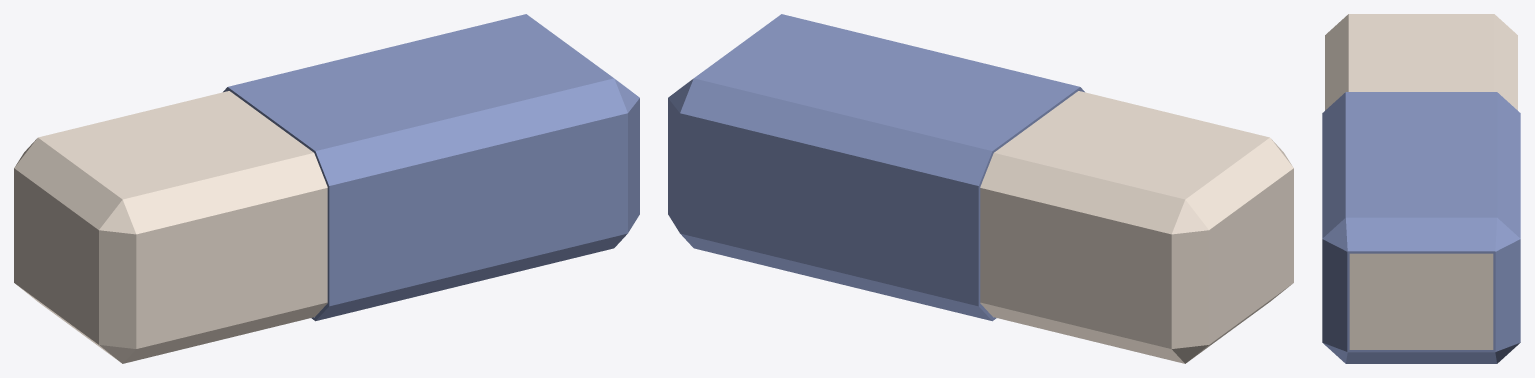
File: eraser.glb
3 renders of one model, left to right at view 1: azimuth 30°, elevation 25°; view 2: azimuth 150°, elevation 25°; view 3: azimuth 270°, elevation 25°, orthographic. The views are drawn at different scales.
Parts seen in each view (by area): view 1: 02 蓝紫色纸套, 01 米白色橡皮本体; view 2: 02 蓝紫色纸套, 01 米白色橡皮本体; view 3: 02 蓝紫色纸套, 01 米白色橡皮本体.
Boxes of the visible parts, left/top/right/bottom form: 02 蓝紫色纸套: left=223, top=14, right=639, bottom=321; 01 米白色橡皮本体: left=14, top=91, right=327, bottom=363; 02 蓝紫色纸套: left=668, top=14, right=1084, bottom=321; 01 米白色橡皮本体: left=980, top=91, right=1293, bottom=363; 02 蓝紫色纸套: left=1322, top=92, right=1520, bottom=363; 01 米白色橡皮本体: left=1325, top=14, right=1517, bottom=349.
Bounding box in the file's own units: 0.9145 × 0.2751 × 0.3381.
